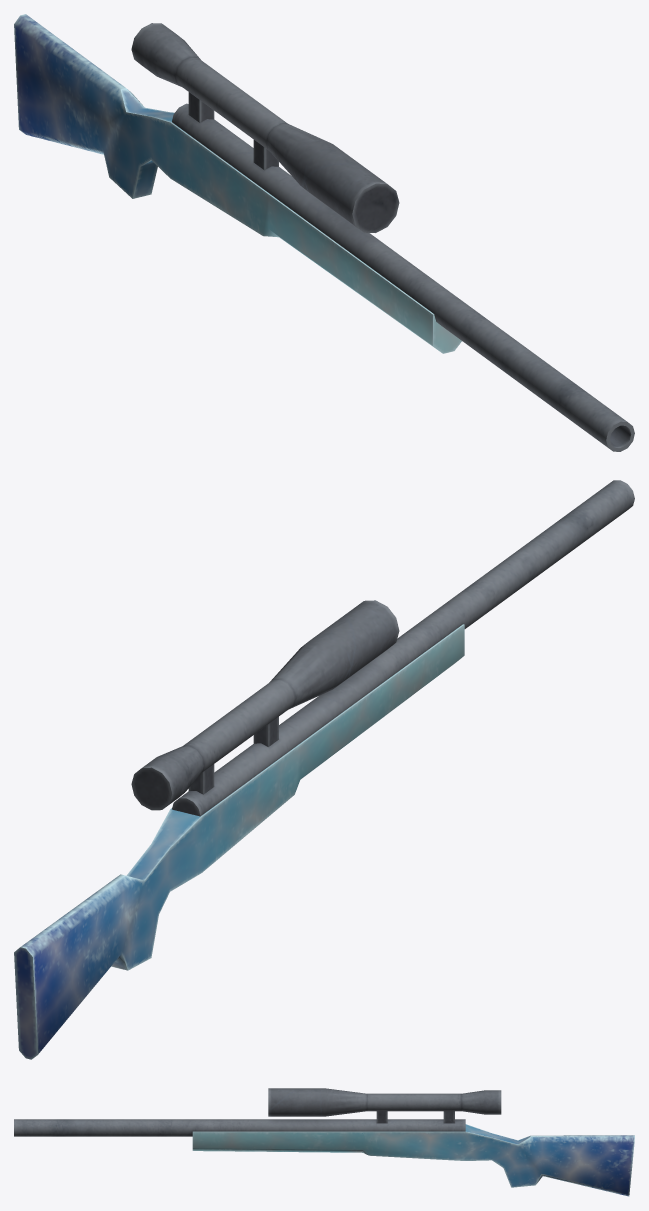
The model's file is SM_Sniper.fbx.
3 views of the same model, one above another, from view 1: azimuth 30°, elevation 25°; view 2: azimuth 150°, elevation 25°; view 3: azimuth 270°, elevation 25° (orthographic). The views are drawn at different scales.
Parts seen in each view (by area): view 1: SM_Sniper; view 2: SM_Sniper; view 3: SM_Sniper.
Part boxes in pixels (x1,y1,x2,y2): SM_Sniper: [14, 14, 634, 451]; SM_Sniper: [14, 480, 634, 1059]; SM_Sniper: [14, 1088, 634, 1196].
Bounding box in the file's own units: 0.0441 × 0.1823 × 0.9653.
